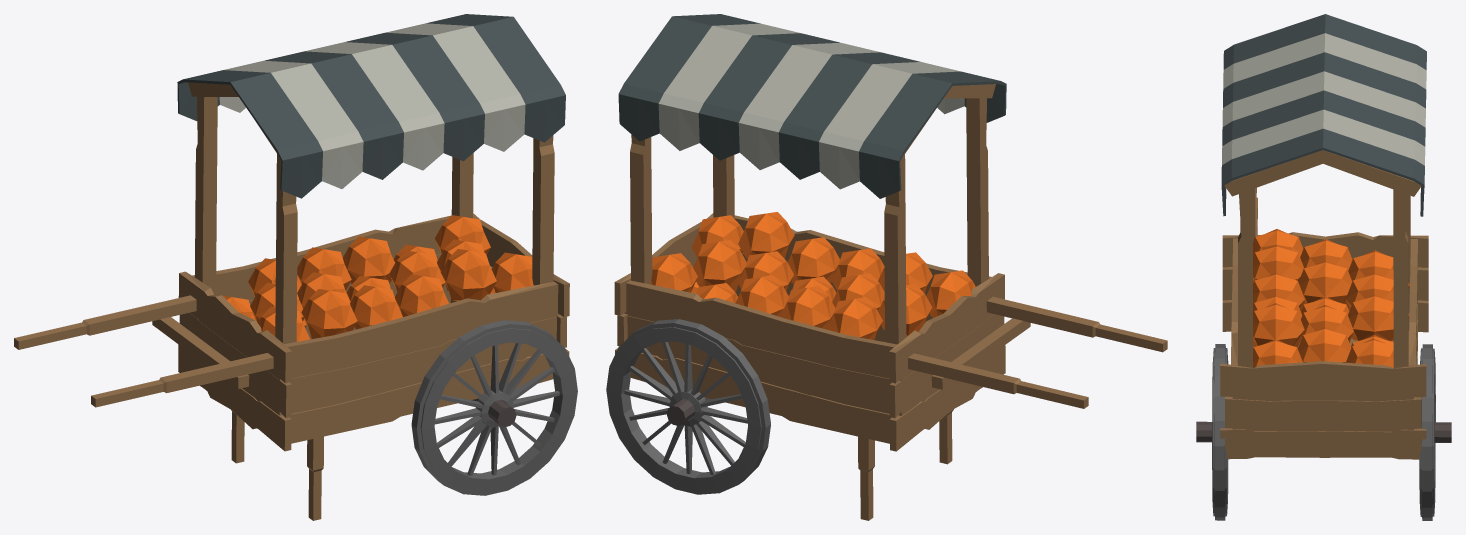
File: FH_Shop1.fbx
3 renders of one model, left to right at view 1: azimuth 30°, elevation 25°; view 2: azimuth 150°, elevation 25°; view 3: azimuth 270°, elevation 25°, orthographic. The views are drawn at different scales.
Visible parts, largest first — view 1: Market Scene.005; view 2: Market Scene.005; view 3: Market Scene.005.
Boxes of the visible parts, bbox=[...] form: Market Scene.005: bbox=[14, 14, 577, 520]; Market Scene.005: bbox=[606, 14, 1167, 520]; Market Scene.005: bbox=[1196, 14, 1451, 520].
Size of the model in its own units: 1695 by 1458 by 844.
